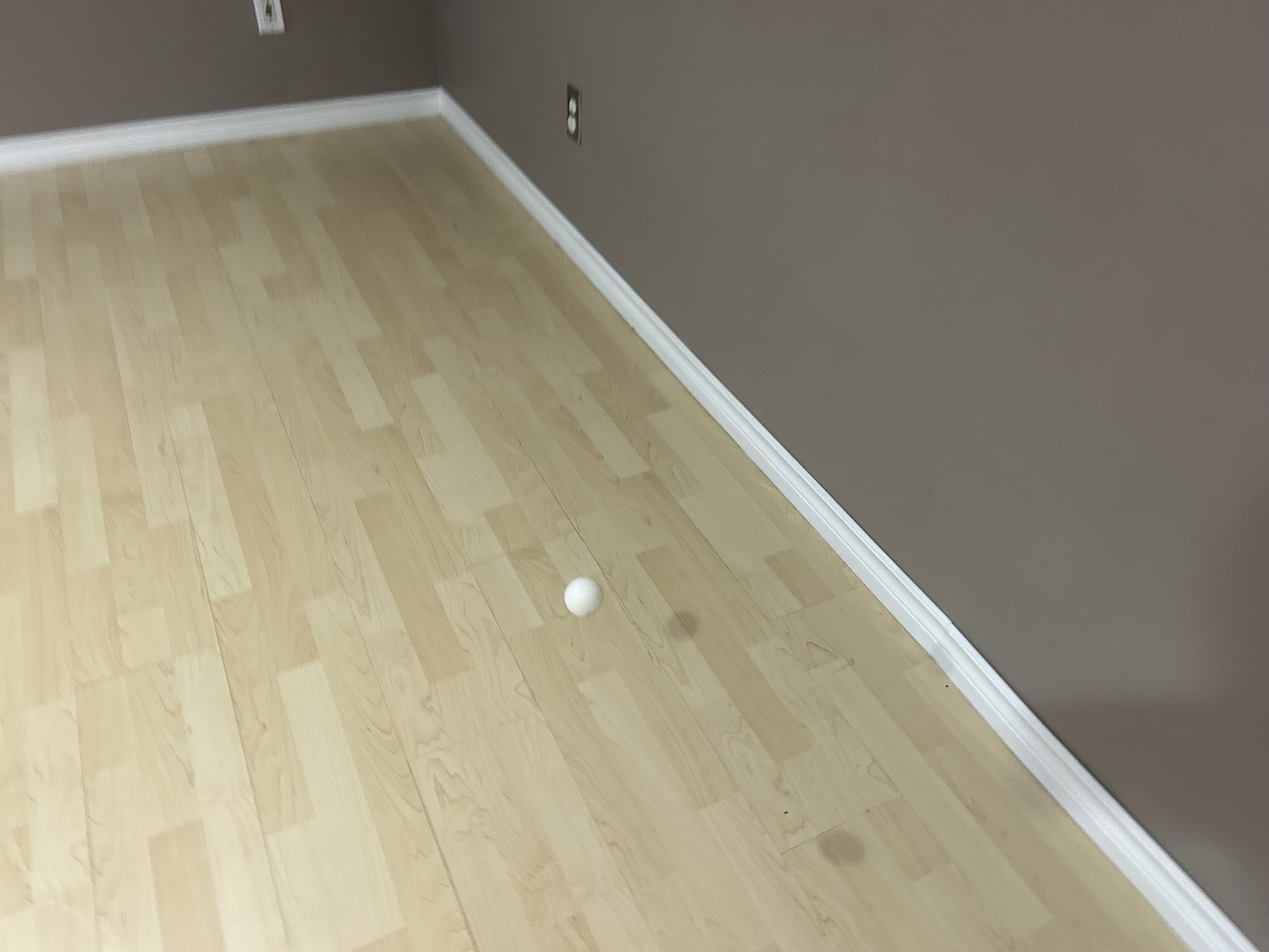Ball: (560, 570, 607, 619)
